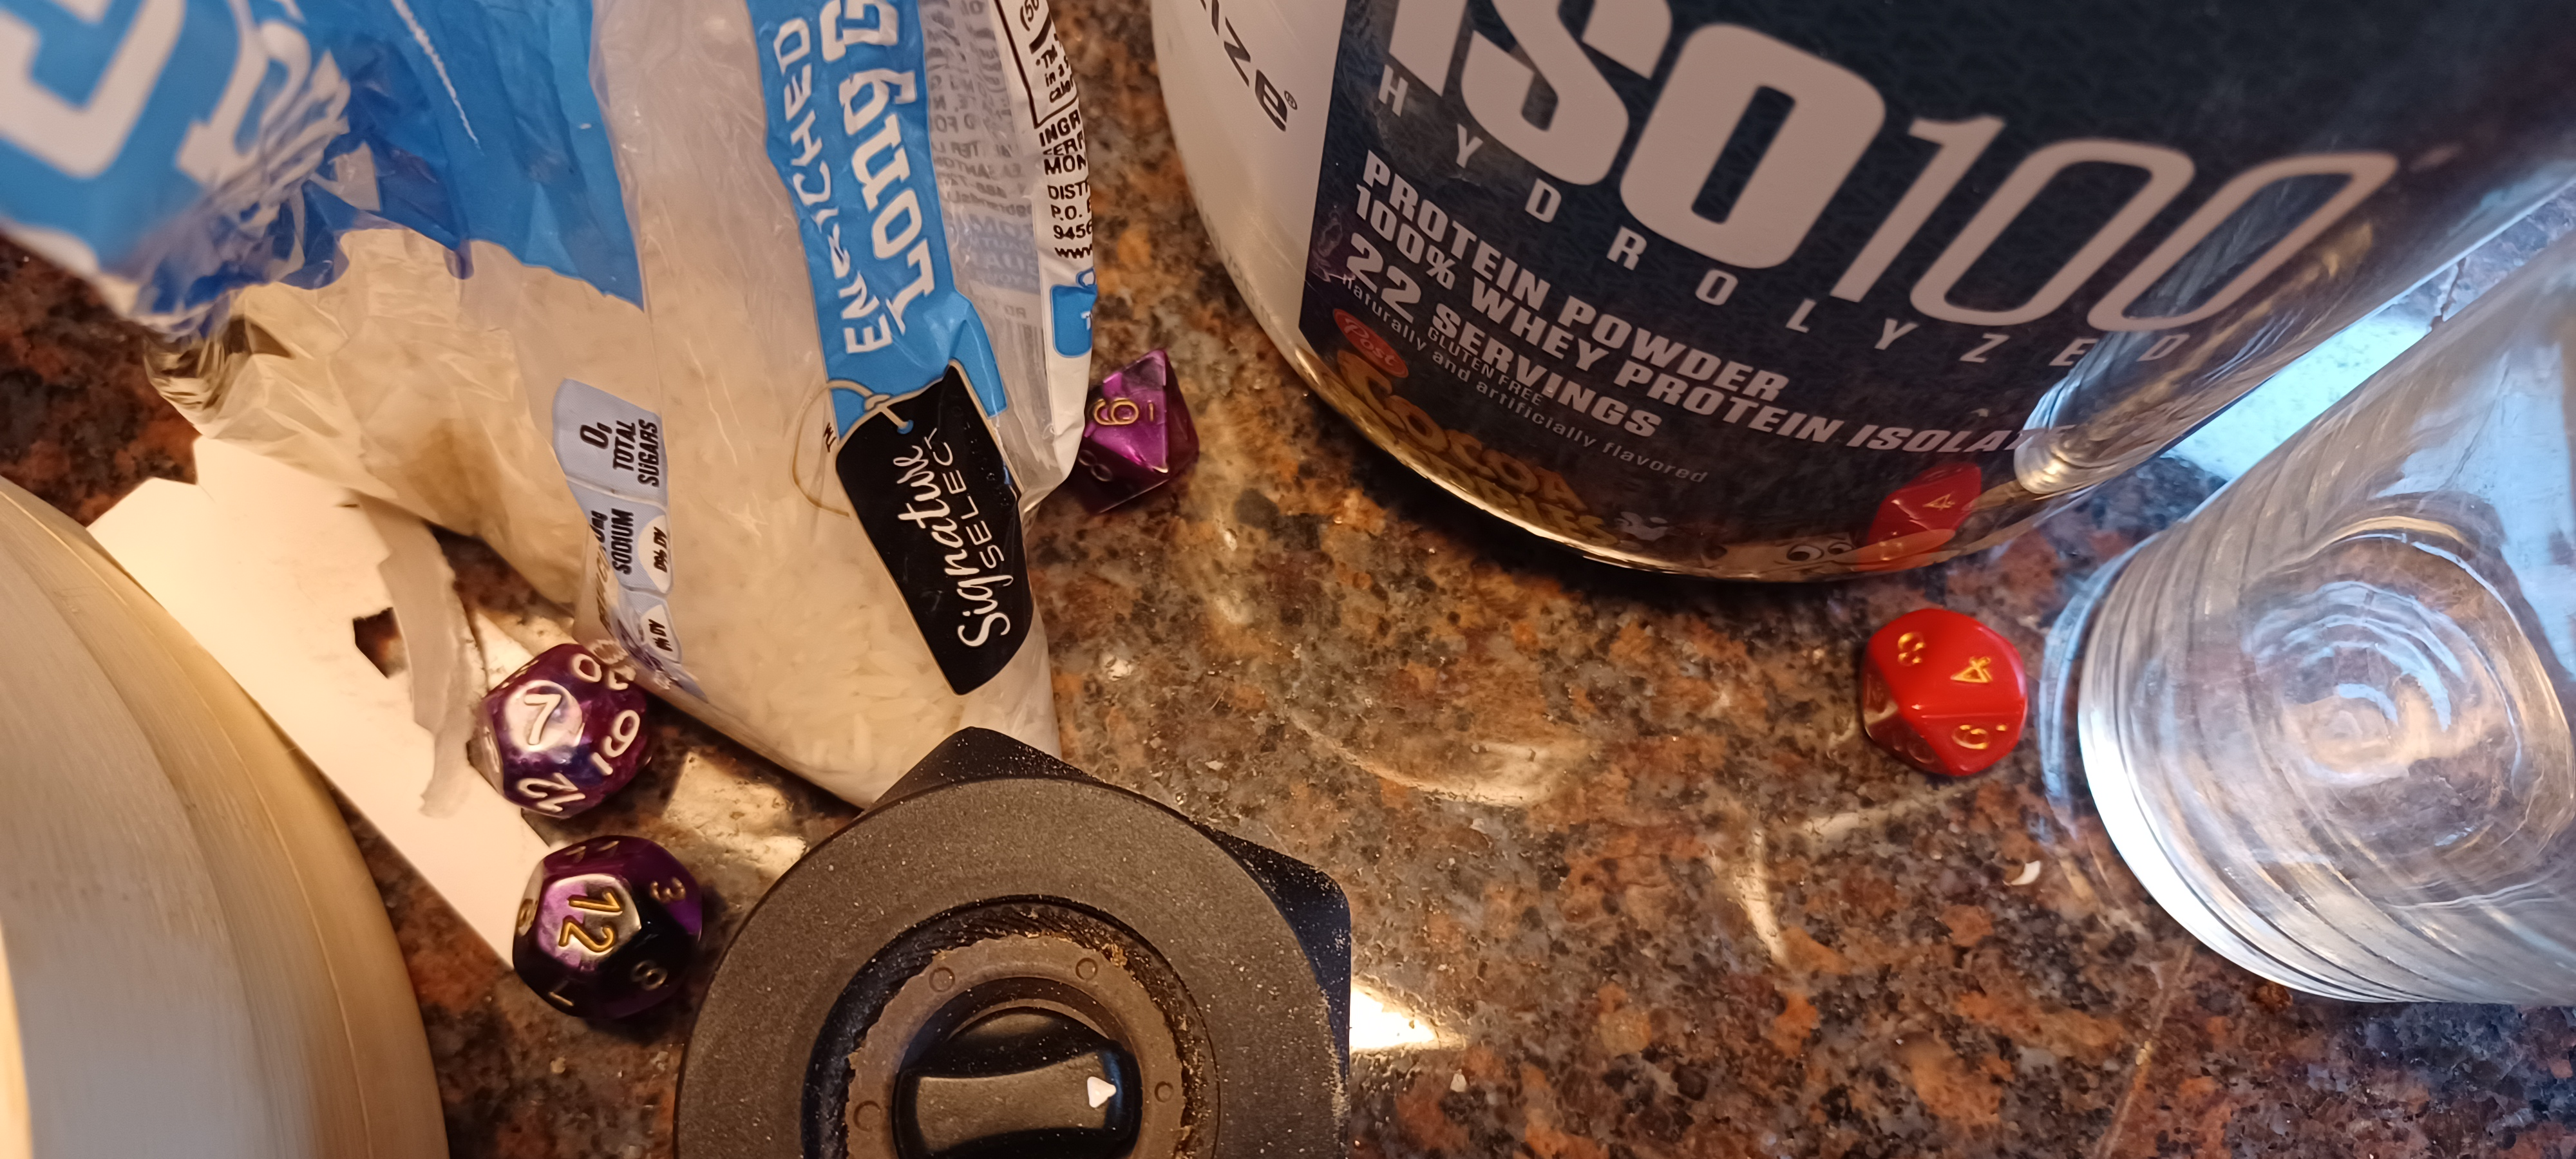four: (1810, 568, 2063, 818)
seven: (437, 607, 690, 826)
six: (1022, 322, 1240, 522)
twelve: (488, 816, 752, 1047)
